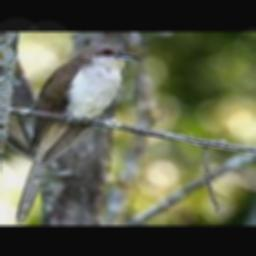Cuckoo: (17, 43, 143, 223)
